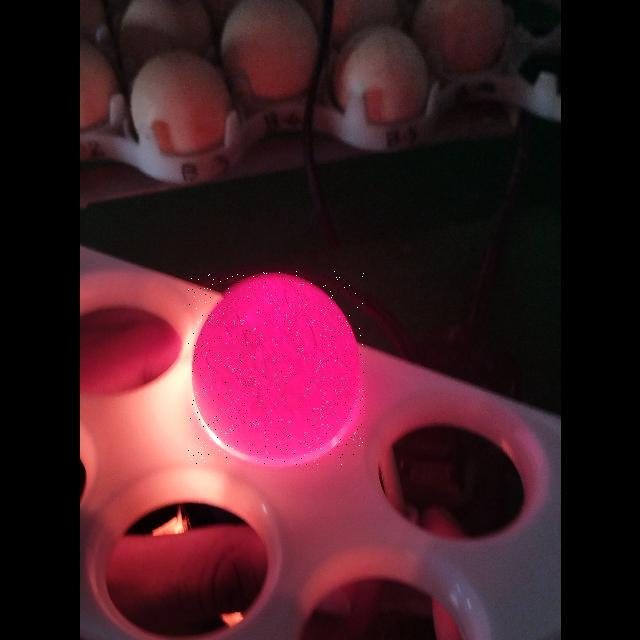Infertile: (188, 271, 364, 465)
